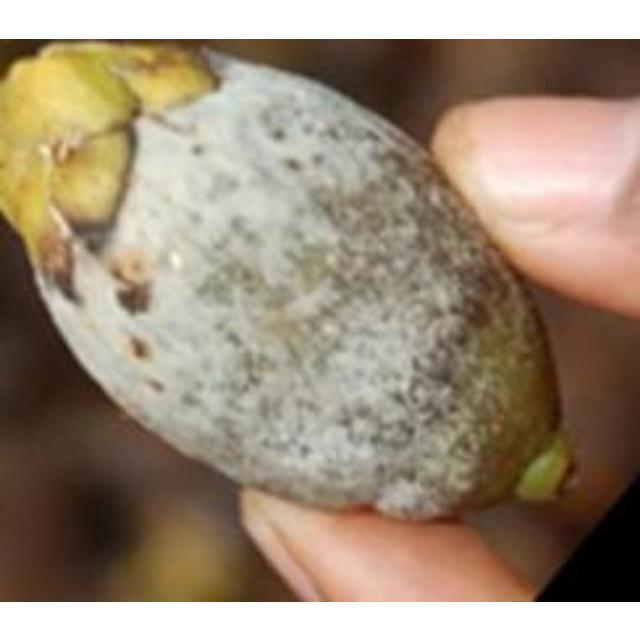damaged: (0, 43, 556, 515)
